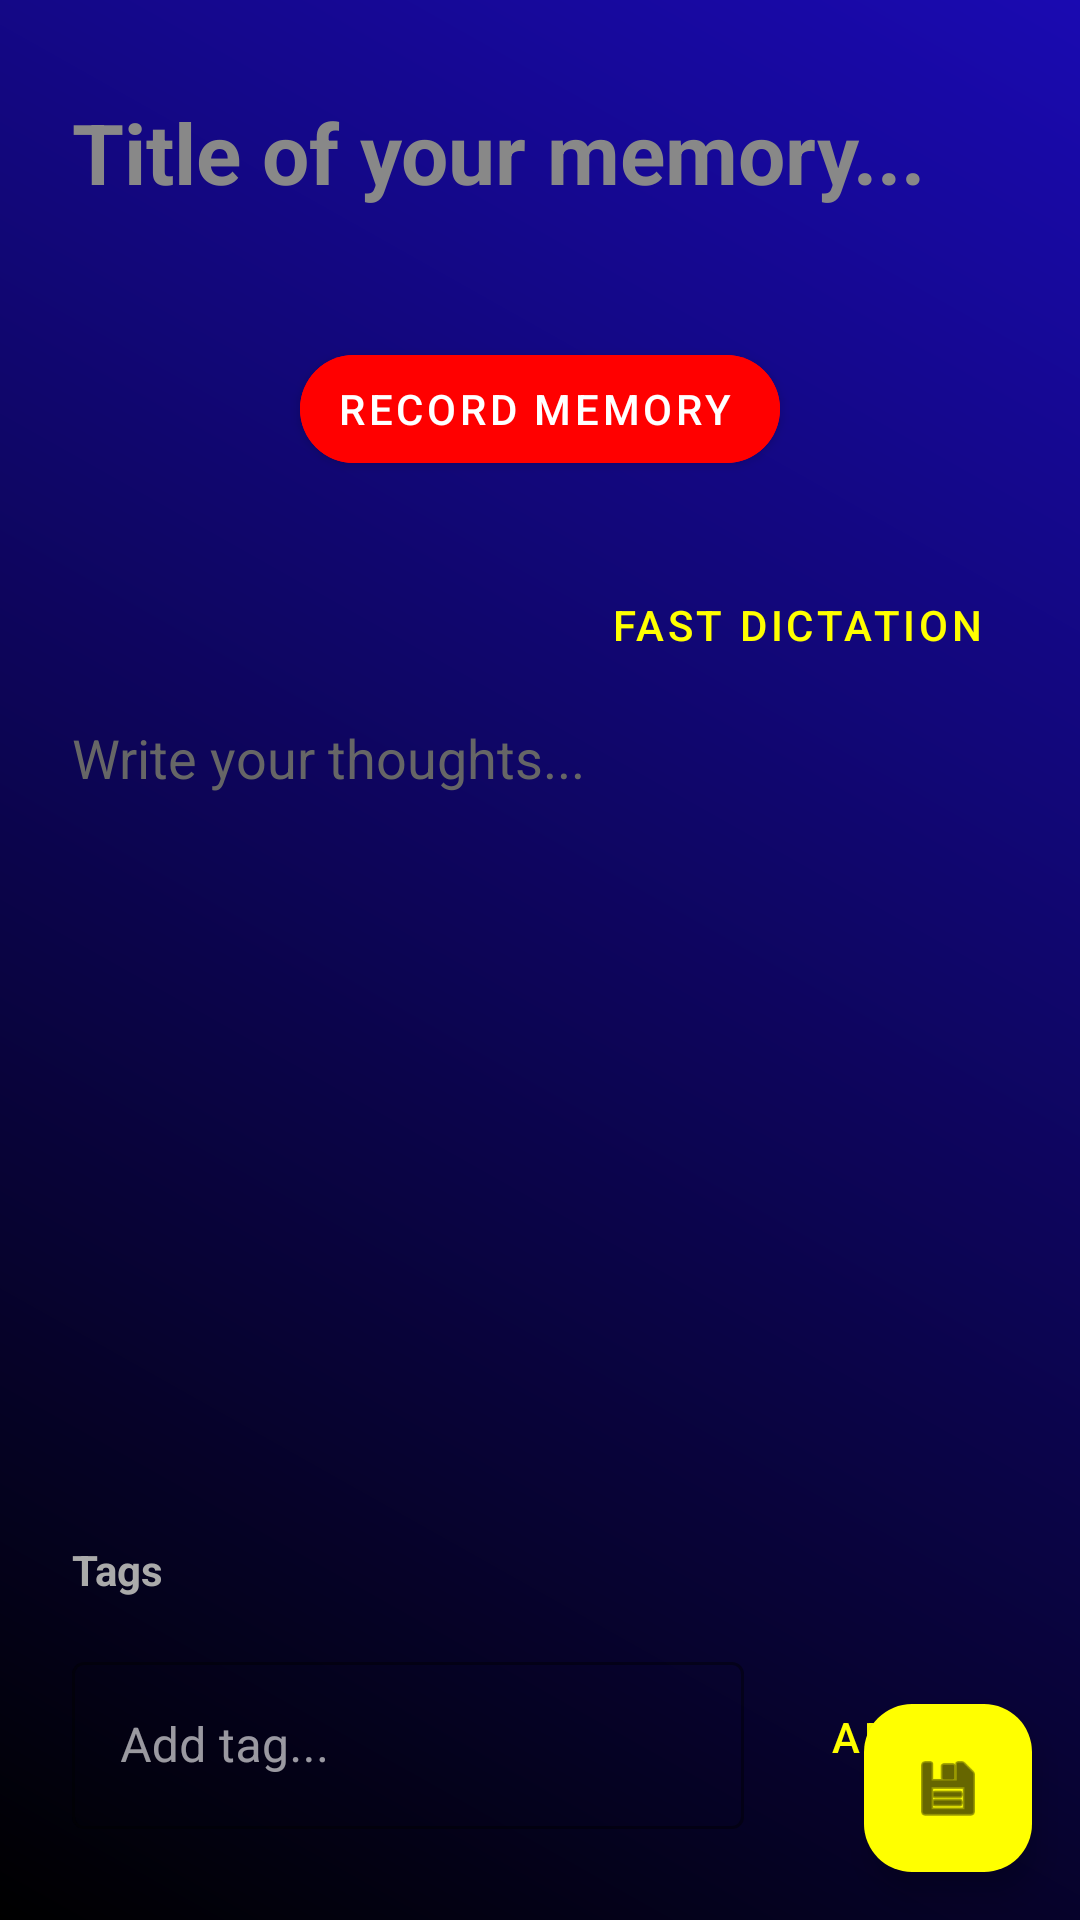

Icons on this 1080 x 1920 Android screen, each with the point to tap as [x,y]:
Save Memory: [948,1788]
